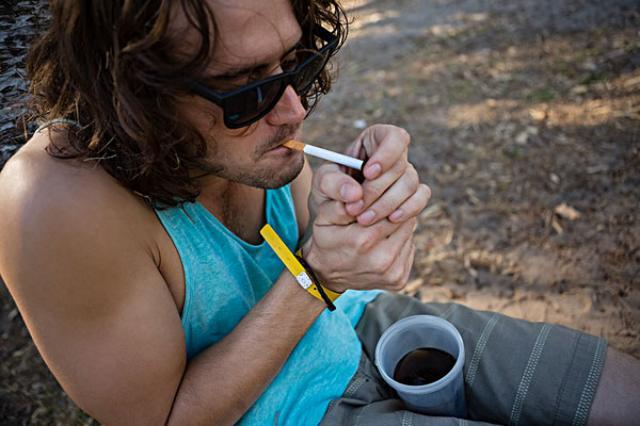Smoking: (288, 136, 366, 172)
